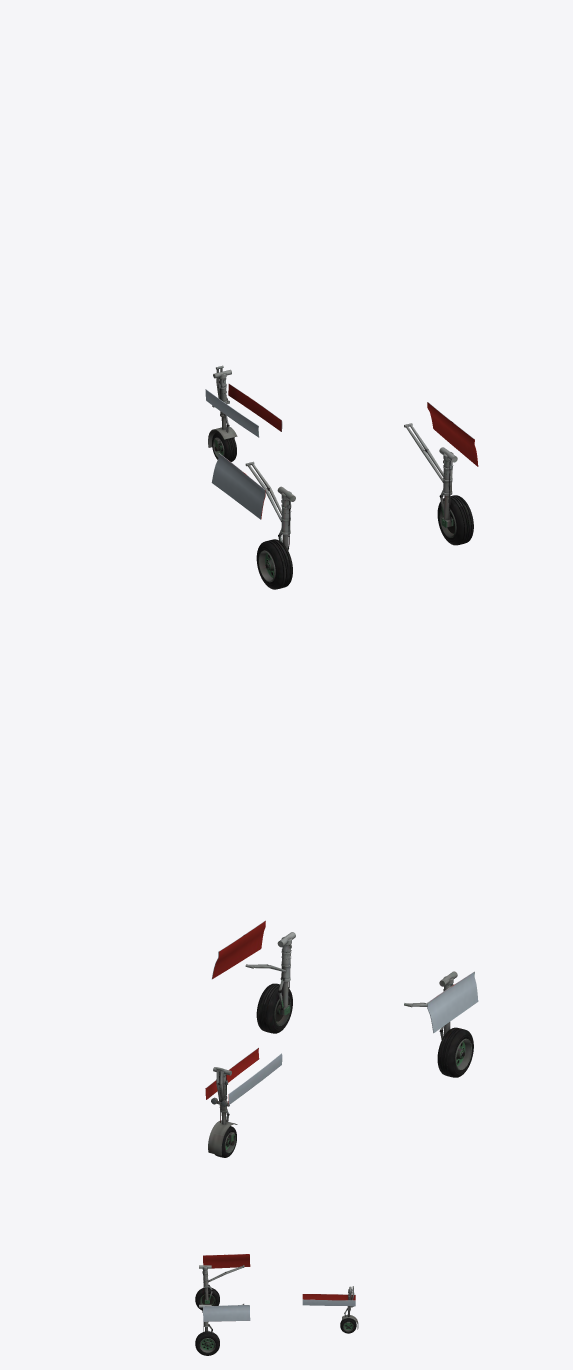
The model's file is e_su27_gear.glb.
3 renders of one model, top to bottom at view 1: azimuth 30°, elevation 25°; view 2: azimuth 150°, elevation 25°; view 3: azimuth 270°, elevation 25°, orthographic. The views are drawn at different scales.
Parts seen in each view (by area): view 1: body|S27_paint; view 2: body|S27_paint; view 3: body|S27_paint.
Boxes of the visible parts, x1,y1,x2,y2 form: body|S27_paint: [205, 365, 478, 589]; body|S27_paint: [205, 920, 478, 1157]; body|S27_paint: [195, 1254, 358, 1355].
Bounding box in the file's own units: 5.33 × 6.73 × 22.65.
2 materials, 1 textured.
